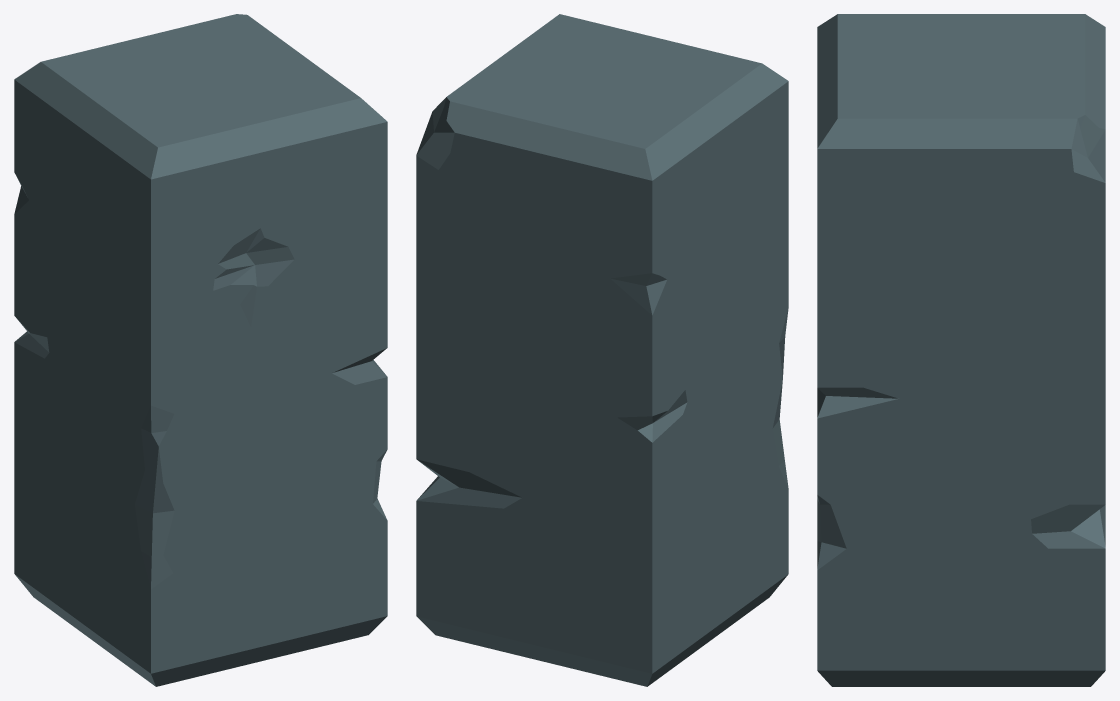
The model's file is stone_pillar_01.fbx.
The picture shows the model from 3 angles, left to right: view 1: azimuth 30°, elevation 25°; view 2: azimuth 150°, elevation 25°; view 3: azimuth 270°, elevation 25°; orthographic projection. The views are drawn at different scales.
Visible parts, largest first — view 1: Cube; view 2: Cube; view 3: Cube.
Boxes of the visible parts, x1,y1,x2,y2 form: Cube: (14, 14, 387, 686); Cube: (416, 14, 788, 686); Cube: (817, 14, 1105, 686).
Size of the model in its own units: 60 by 130 by 60.
